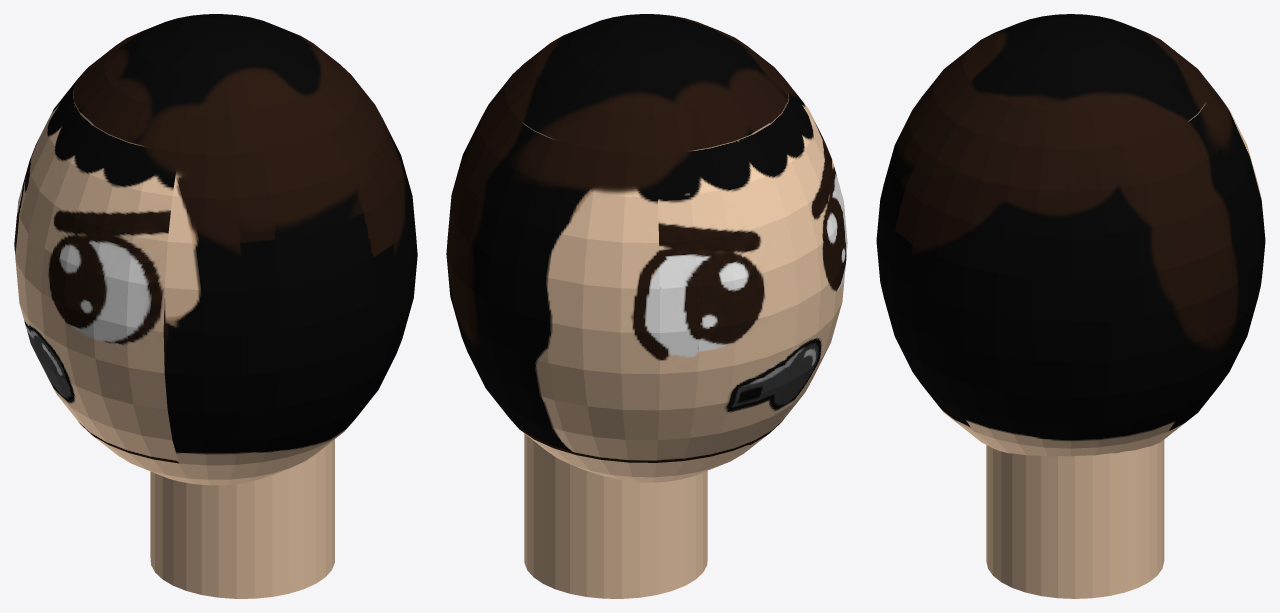
The model's file is Cabeza_Arbitro.obj.
The picture shows the model from 3 angles, left to right: view 1: azimuth 30°, elevation 25°; view 2: azimuth 150°, elevation 25°; view 3: azimuth 270°, elevation 25°; orthographic projection. The views are drawn at different scales.
Visible parts, largest first — view 1: Cabeza_Arbitro; view 2: Cabeza_Arbitro; view 3: Cabeza_Arbitro.
Part boxes in pixels (x1,y1,x2,y2): Cabeza_Arbitro: (14,14,417,598); Cabeza_Arbitro: (446,14,847,598); Cabeza_Arbitro: (876,14,1265,598).
Bounding box in the file's own units: 1.75 × 2.57 × 1.75.
1 material, 1 textured.
